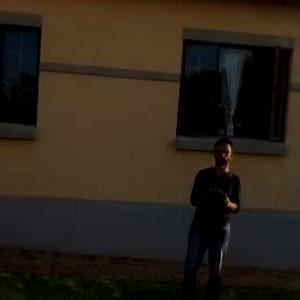follow: (172, 130, 242, 299)
